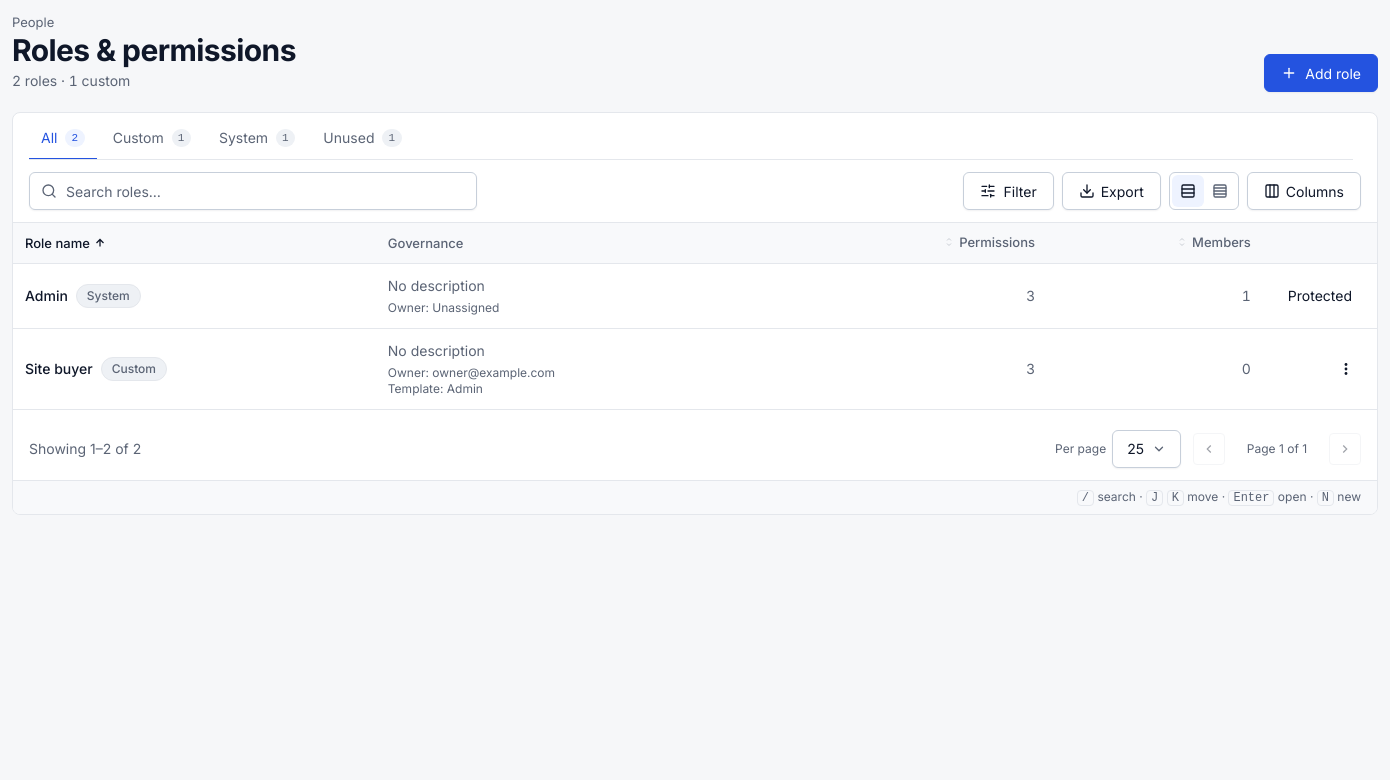
Test case: RolesList › offers a SYSTEM role for review only, and a CUSTOM role its commands
This screenshot has width=1390, height=780.
Expected: the button "Protected" is shown, [1275,278,1365,314]
Click the button named "Actions for Site buyer".
click(1346, 368)  # box [1327,350,1365,388]
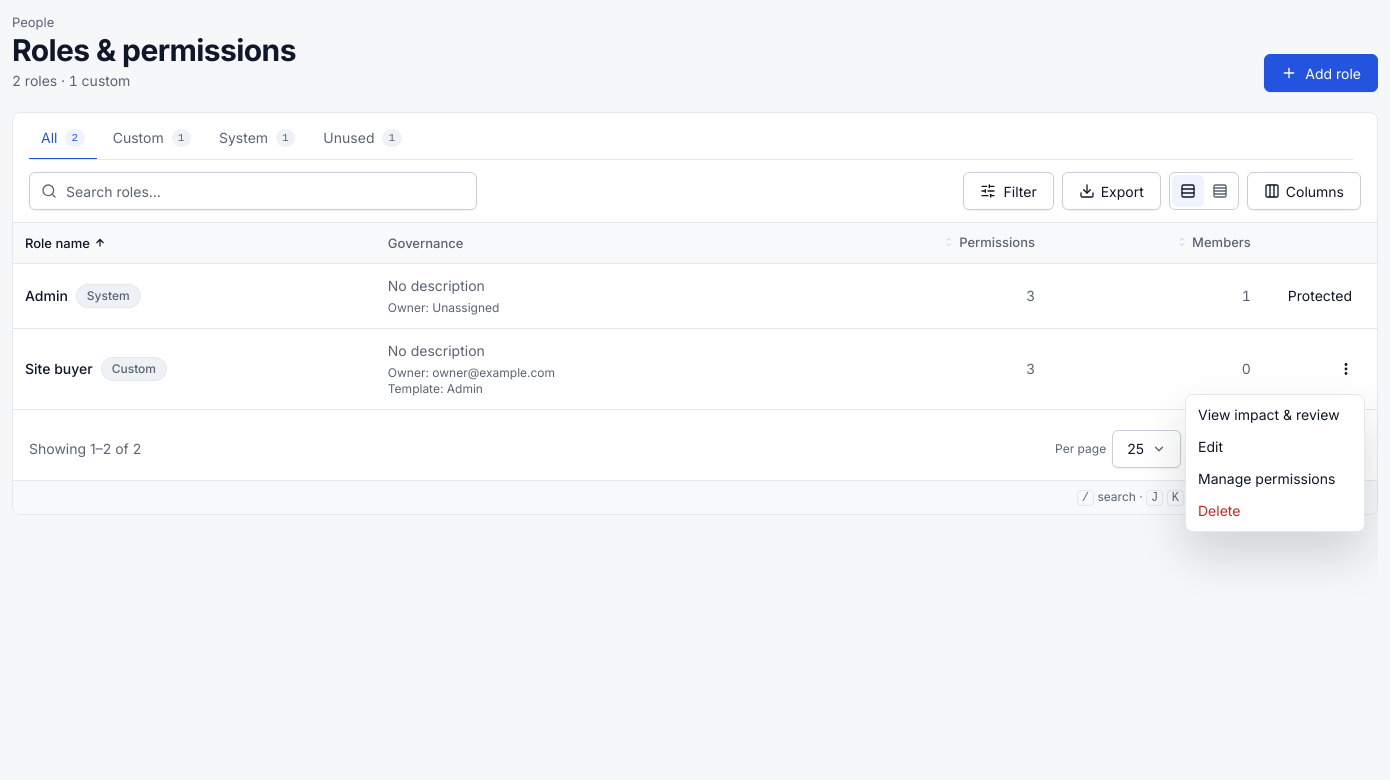
Now the menu item "Delete" is shown, box [1198,502,1240,519]
